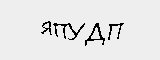Д: (88, 21, 107, 45)
П: (107, 21, 123, 40), (54, 22, 70, 39)
У: (66, 20, 83, 43)
Я: (39, 18, 53, 39)
